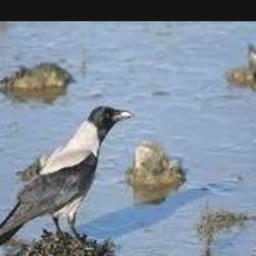Crow: (0, 105, 136, 249)
